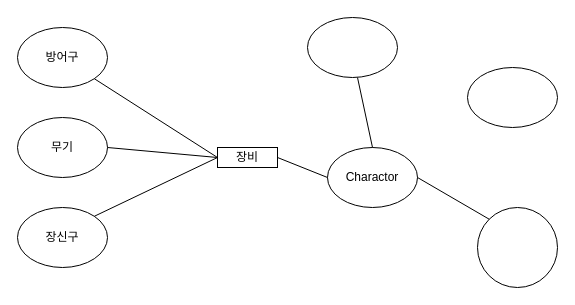
Some shapes in this 575 by 305 pixel diagram are drawn without their labels. Each missing label, with the box of its shape:
User: (476, 206, 558, 288)
스텟: (306, 16, 398, 78)
외형: (466, 66, 558, 128)
